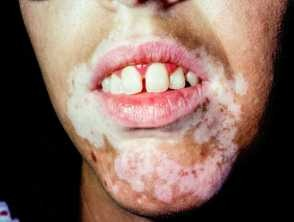Melasma: (76, 0, 230, 31)
